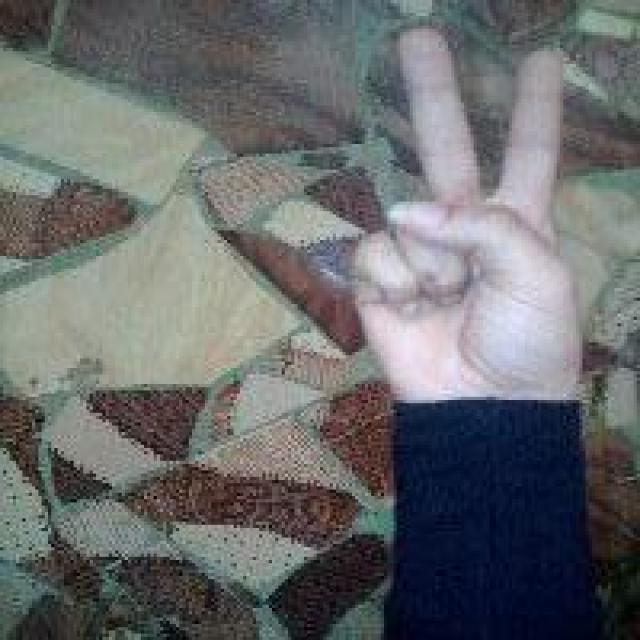V: (344, 25, 610, 412)
